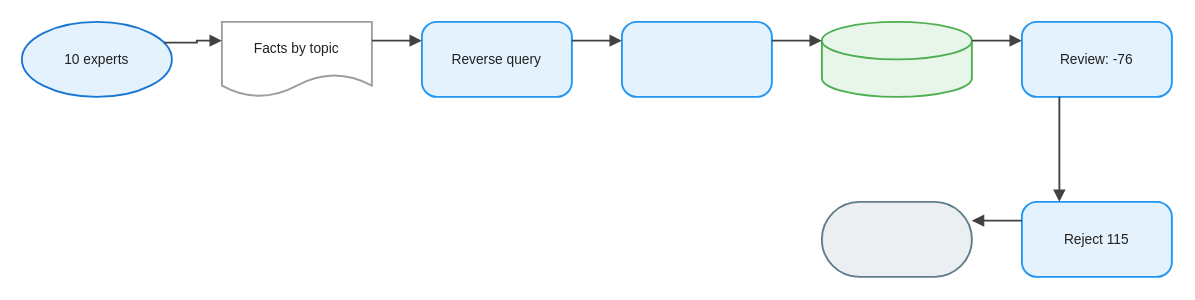
This 1195x300 diagram has some shape labels left out. Each missing label, with the centre of its shape:
289 questions: pixel 896 238
480 candidates: pixel 896 58
Search + model: pixel 696 58
